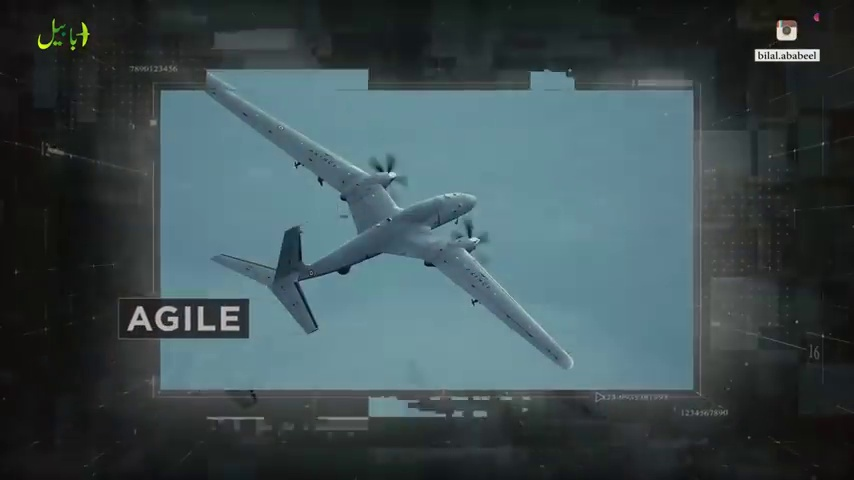military drone: (209, 70, 574, 369)
